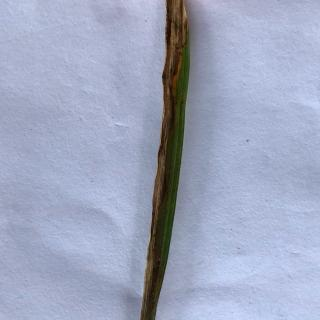Hawar-Daun: (147, 0, 185, 309)
